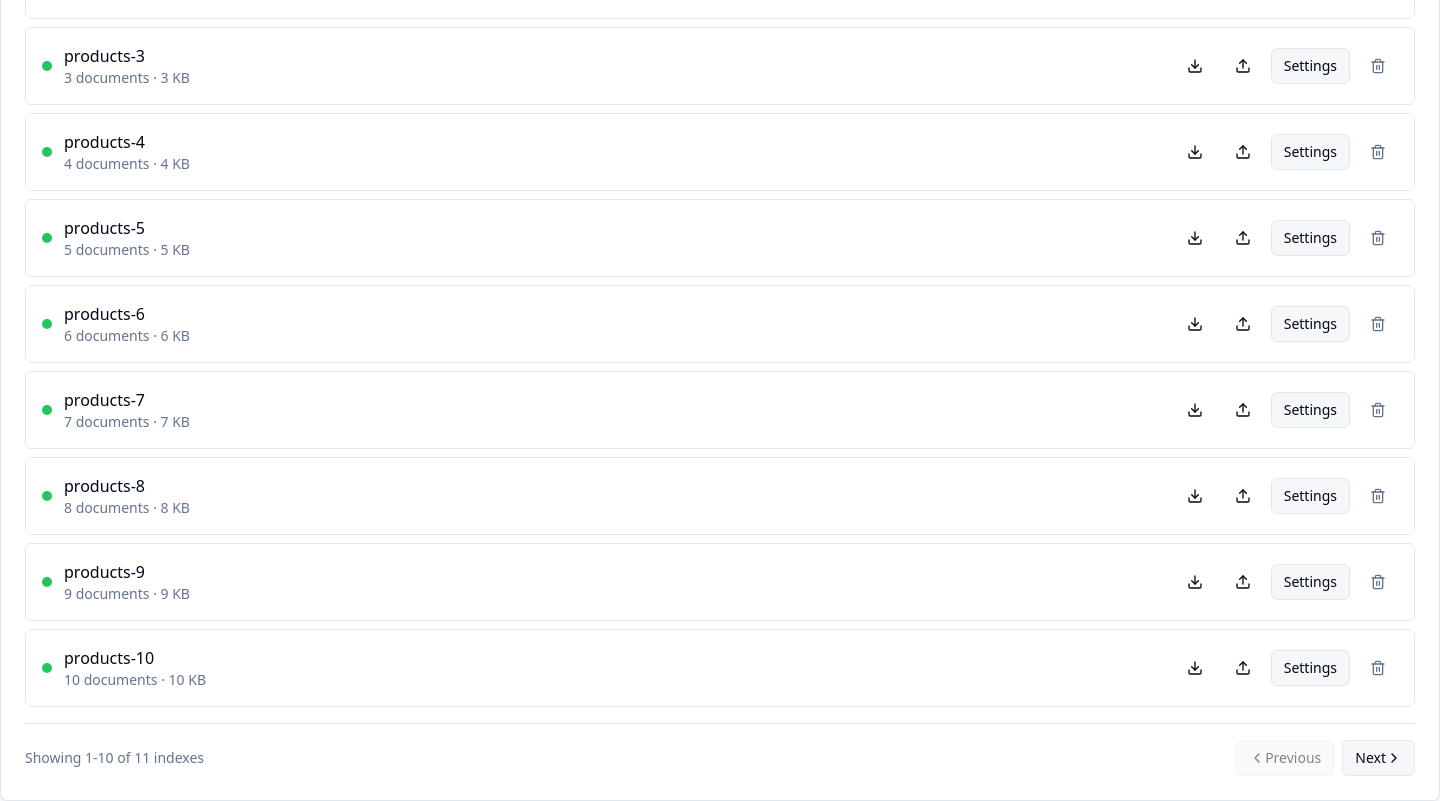
Test: Overview index list contracts › paginates index rows and updates the visible page range
(page scrolled)
Expected: the text "Showing 1-10 of 11 indexes" is shown, x1=25 y1=748 x2=204 y2=768
Click the button "Next": (1379, 758) x1=1342 y1=740 x2=1415 y2=776
(page scrolled)
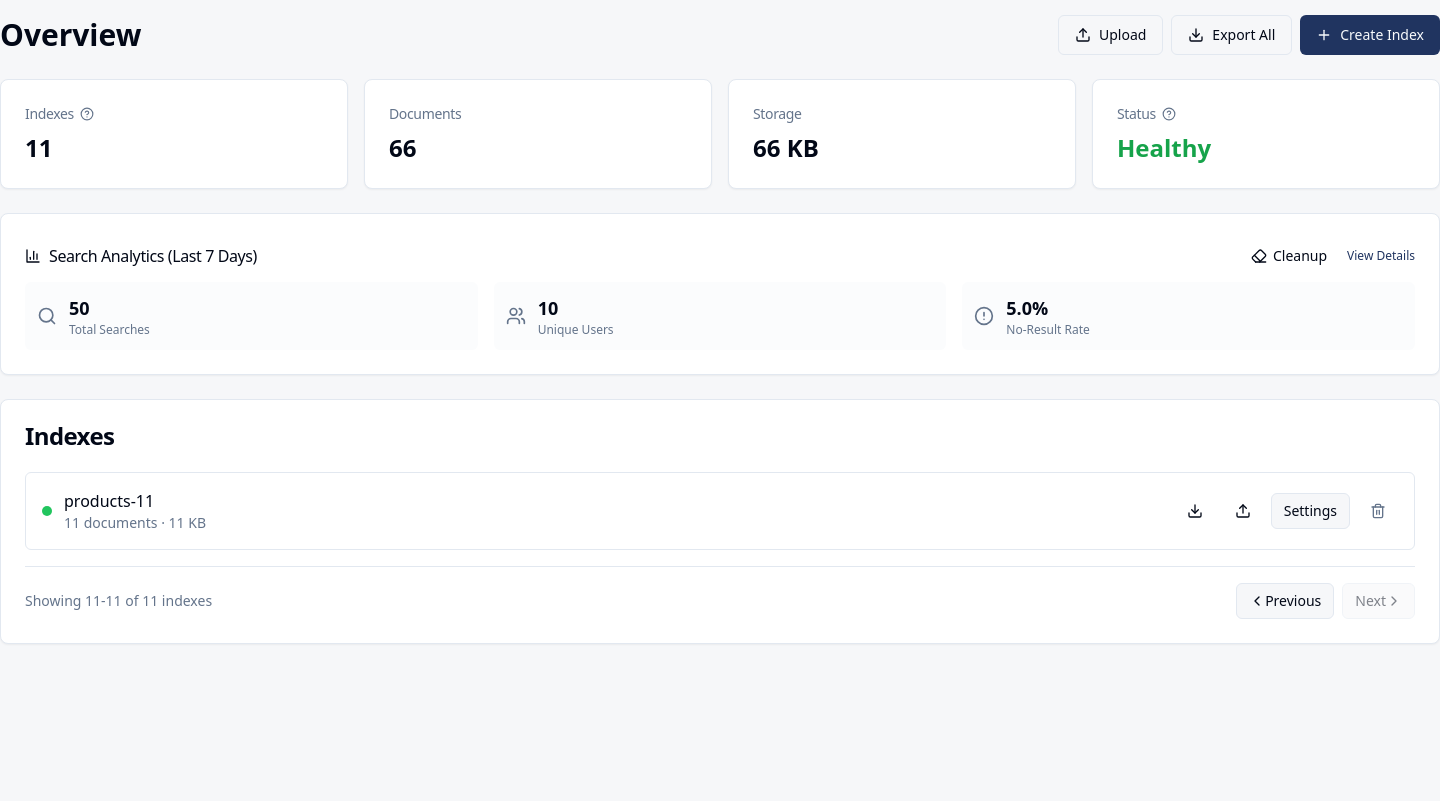
Now the element with test id "overview-index-row-products-11" is shown, box x1=25 y1=472 x2=1415 y2=550
Now the text "Showing 11-11 of 11 indexes" is shown, box x1=25 y1=591 x2=212 y2=611
